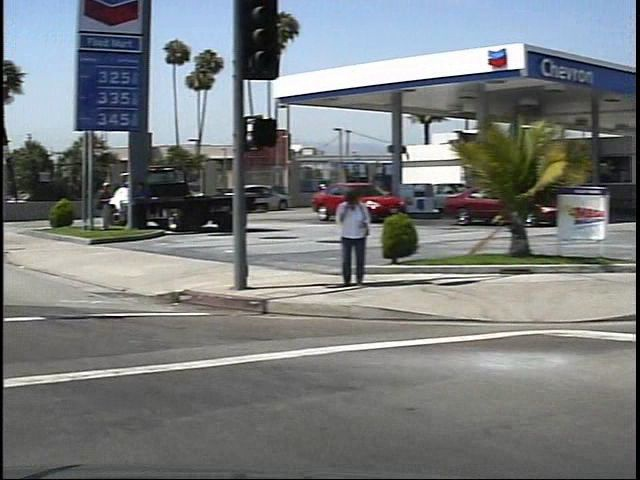person: (323, 186, 363, 290), (88, 178, 108, 234)
